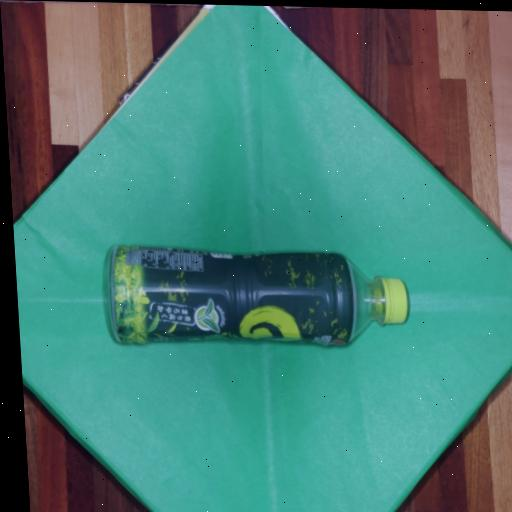bottle: (111, 246, 408, 345)
